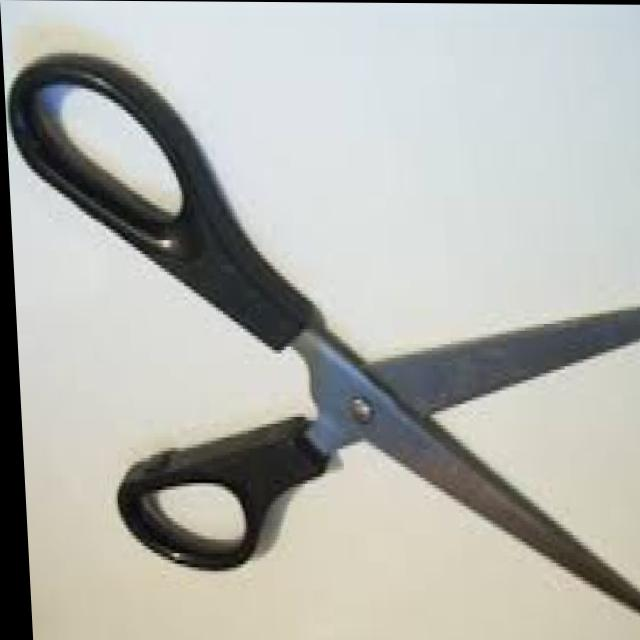scissor: (4, 57, 640, 619)
